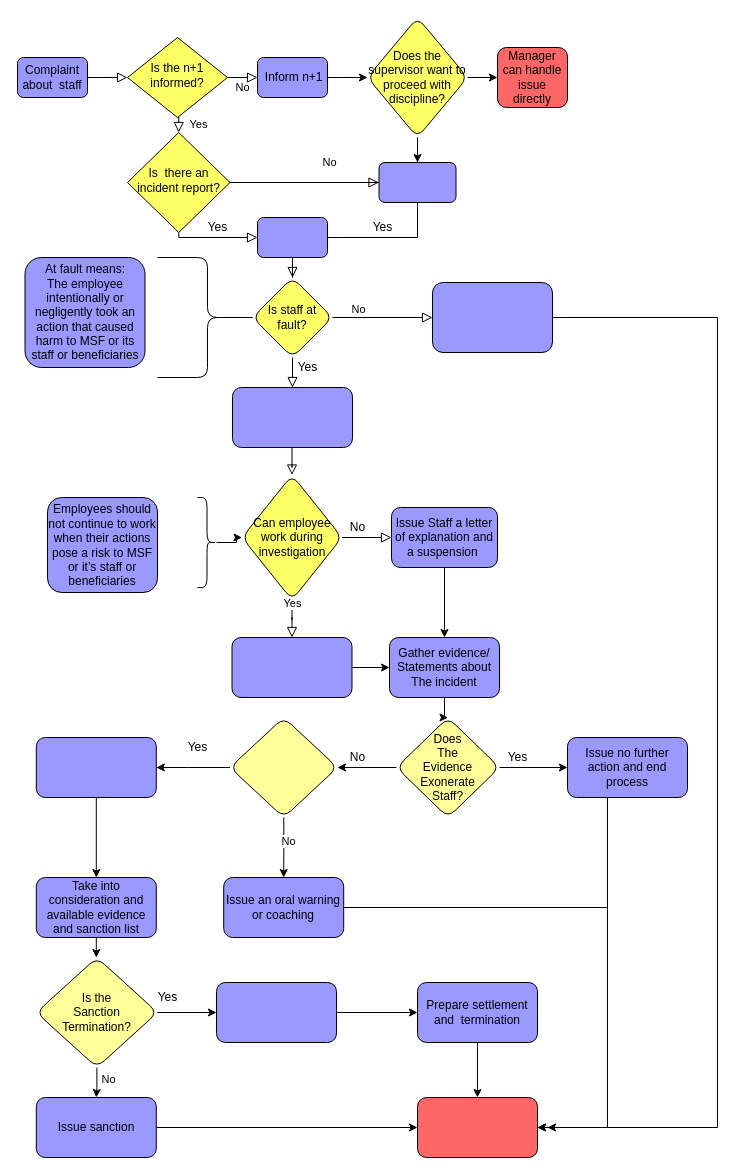
Some shapes in this 743 by 1175 pixel diagram are drawn without their labels. Each missing label, with the centre of its shape:
Document and archive discipline process: [477,1127]
Does the Evidence Justify A hearing?: [283,767]
Fill the incident report: [417,182]
Inform HRCO and other relevant authorities: [276,1012]
Issue staff a letter of explanation: [291,667]
Open an investigation to gather more information: [292,417]
Organizea disciplinary hearing: [95,767]
review processes and procedures that caused incident, close incident: [492,317]
Review report: [292,237]
